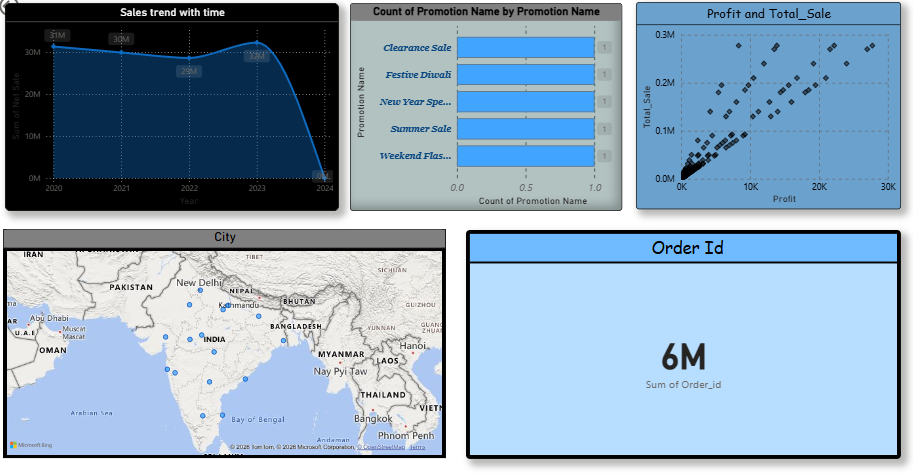

What the dashboard file says about the page in this screenshot:
{"tool":"powerbi","page":{"name":"Overview-requarment","canvas":[1400,750],"ordinal":1},"visuals":[{"type":"actionButton","box":[0,0,100,40],"z":0},{"type":"lineChart","title":"Sales trend with time","fields":{"Y":["Sum(Fect.Net Sale)"],"Category":["Fact.Date (dd/mm/yyyy)","Data Table 1.Date.Variation.Date Hierarchy.Year","Data Table 1.Date.Variation.Date Hierarchy.Quarter","Data Table 1.Date.Variation.Date Hierarchy.Month","Data Table 1.Date.Variation.Date Hierarchy.Day"]},"box":[13.7,15.2,509.1,317.1],"z":1000},{"type":"scatterChart","fields":{"X":["Sum(Fect.Profit)"],"Y":["Fect.Total_Sale"]},"box":[975.6,13.7,404,315.5],"z":2000},{"type":"barChart","fields":{"Category":["Dim Promotion.Promotion Name"],"Y":["Count(Dim Promotion.Promotion Name)"]},"box":[539.6,15.2,414.6,317.1],"z":3000},{"type":"card","title":"Order Id","fields":{"Values":["Sum(Fect.Order_id)"]},"box":[716.5,361.3,663.1,349.1],"z":4000},{"type":"map","fields":{"Category":["Dim Customers.City"]},"box":[10.7,359.8,675.3,349.1],"z":5000}]}

Visuals, with their boxes on the page's 1400x750 design canvas (x1, y1, x2, y2). These are canvas units, not pixel positions in the 913x474 screenshot, which may show the page scaled, cropped or inside an application window:
actionButton: select_region(0, 0, 100, 40)
"Sales trend with time" lineChart: select_region(14, 15, 523, 332)
scatterChart - Sum(Fect.Profit) x Fect.Total_Sale: select_region(976, 14, 1380, 329)
barChart - Dim Promotion.Promotion Name x Count(Dim Promotion.Promotion Name): select_region(540, 15, 954, 332)
"Order Id" card: select_region(716, 361, 1380, 710)
map - Dim Customers.City: select_region(11, 360, 686, 709)
